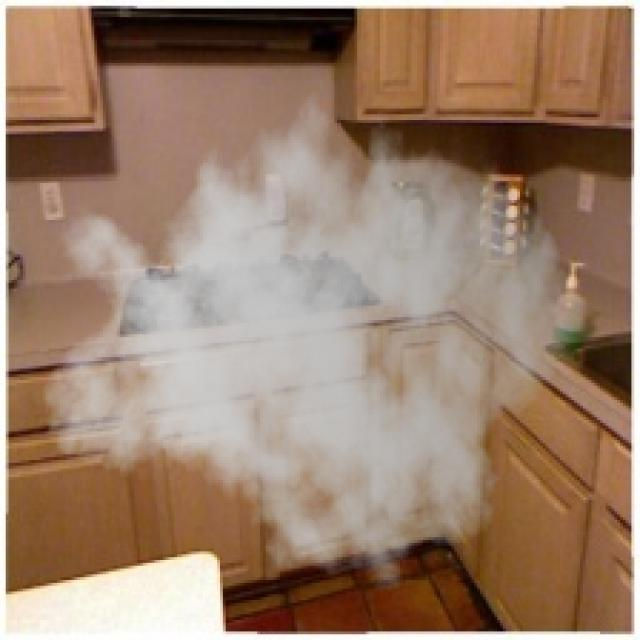smoke: (40, 68, 569, 603)
